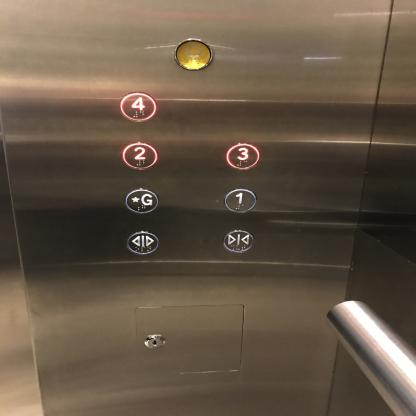1: (222, 188, 258, 214)
2: (121, 142, 159, 170)
3: (224, 142, 260, 170)
4: (118, 91, 158, 122)
alarm: (172, 38, 214, 70)
close: (221, 229, 255, 253)
open: (125, 230, 159, 255)
sG: (124, 187, 158, 213)
